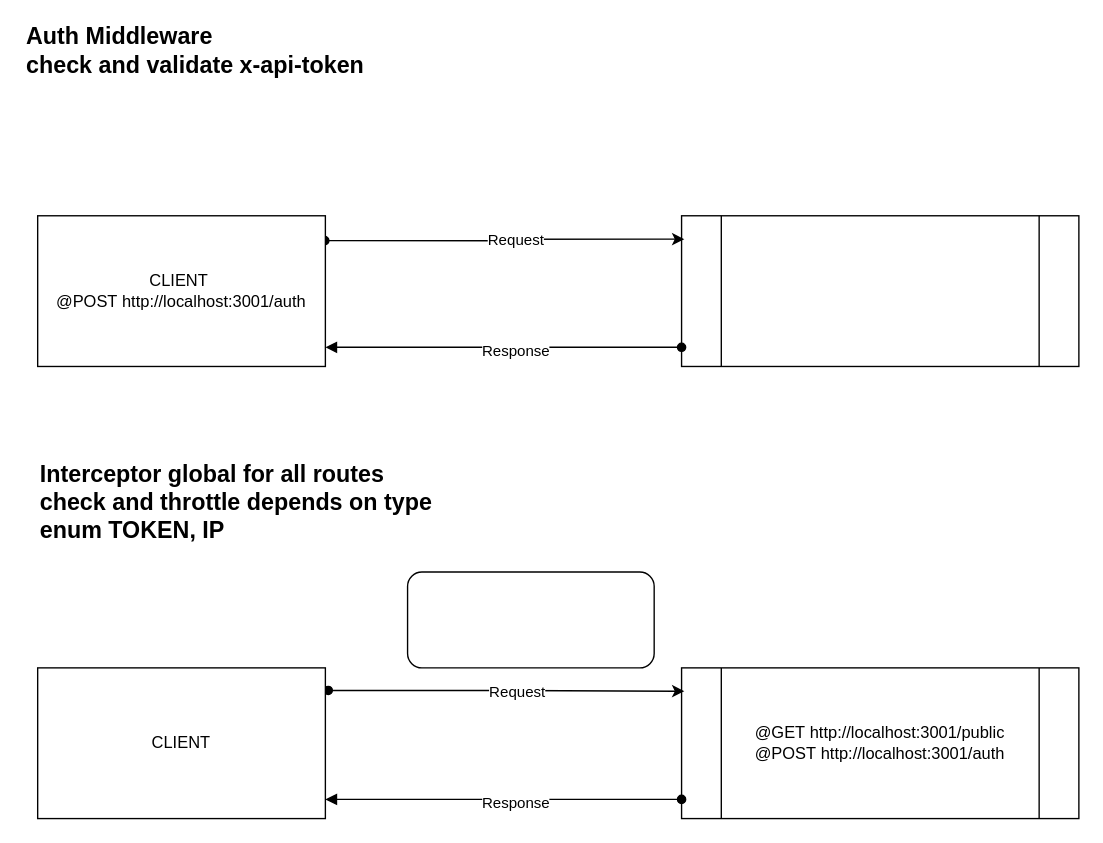
Image size: 1103x843. Some labels were removed from this diagram. Each missing label, with the box of its shape:
MiddleWare for all /auth routes: (680, 214, 1079, 366)
provider in App APP_INTERCEPTOR RateLimitInterceptor: (406, 571, 654, 668)
